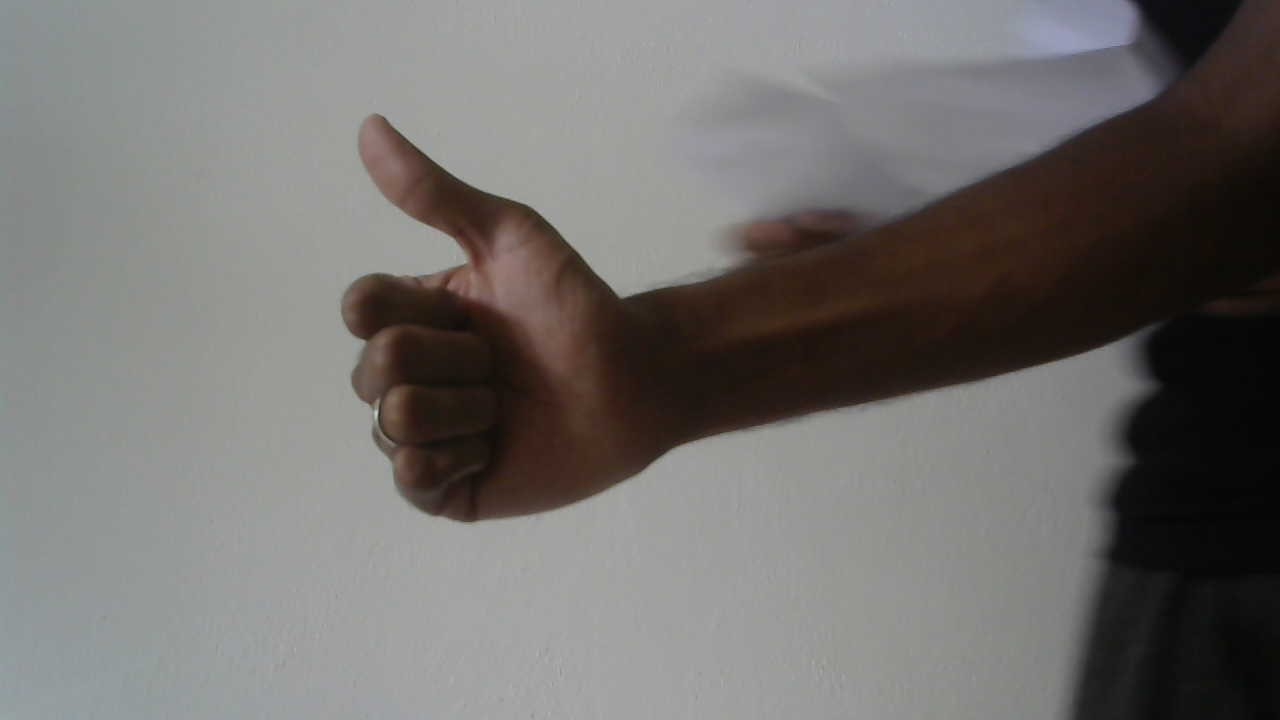thumbsup: (326, 102, 673, 546)
